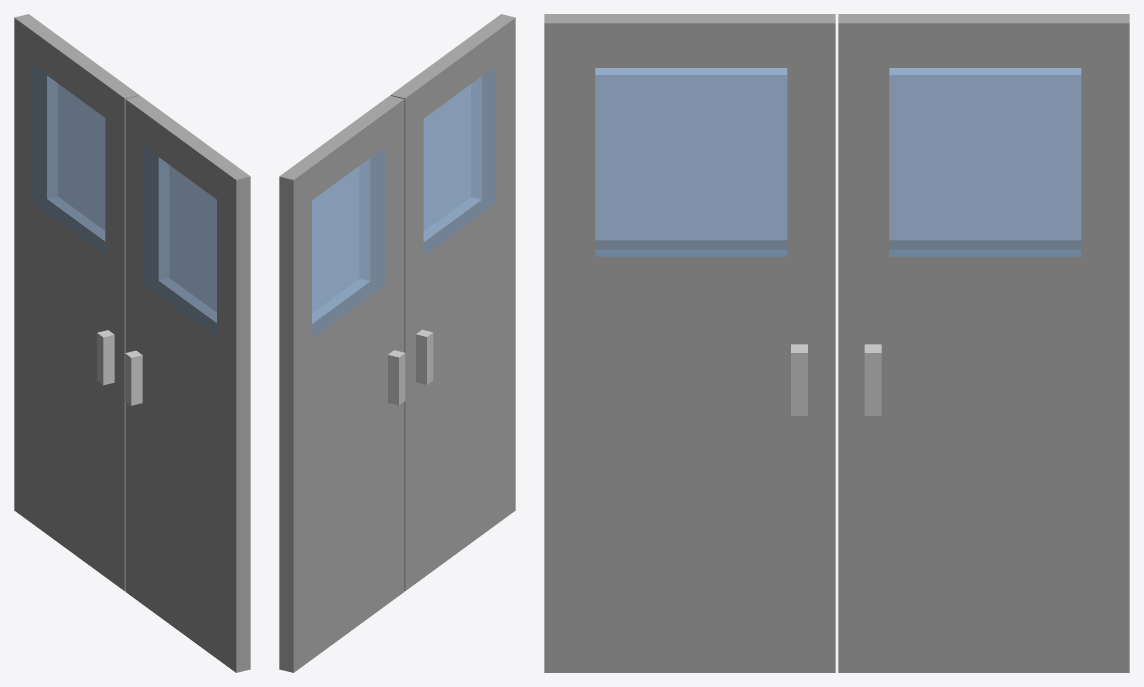
The model's file is storgedoor.fbx.
3 renders of one model, left to right at view 1: azimuth 30°, elevation 25°; view 2: azimuth 150°, elevation 25°; view 3: azimuth 270°, elevation 25°, orthographic. The views are drawn at different scales.
Parts seen in each view (by area): view 1: Cube.003; view 2: Cube.003; view 3: Cube.003.
Boxes of the visible parts, box(x1,y1,x2,y2) form: Cube.003: box(14, 14, 250, 672); Cube.003: box(279, 14, 515, 672); Cube.003: box(544, 14, 1129, 672).
Bounding box in the file's own units: 23.04 × 278 × 227.
